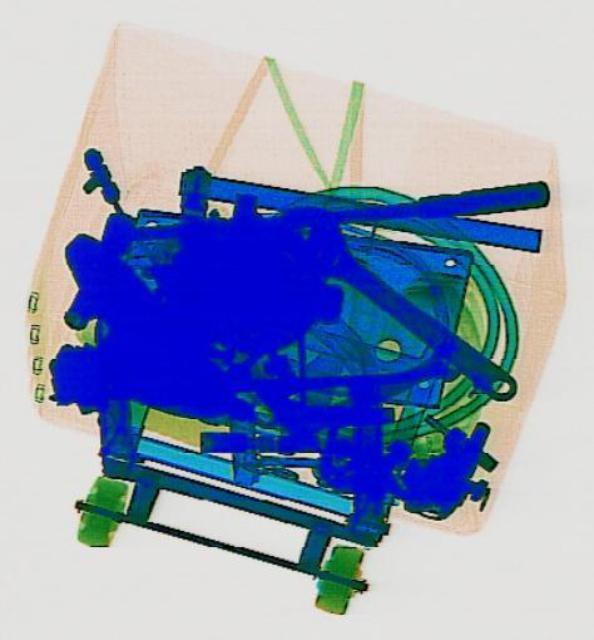Wrench: (256, 188, 532, 422)
